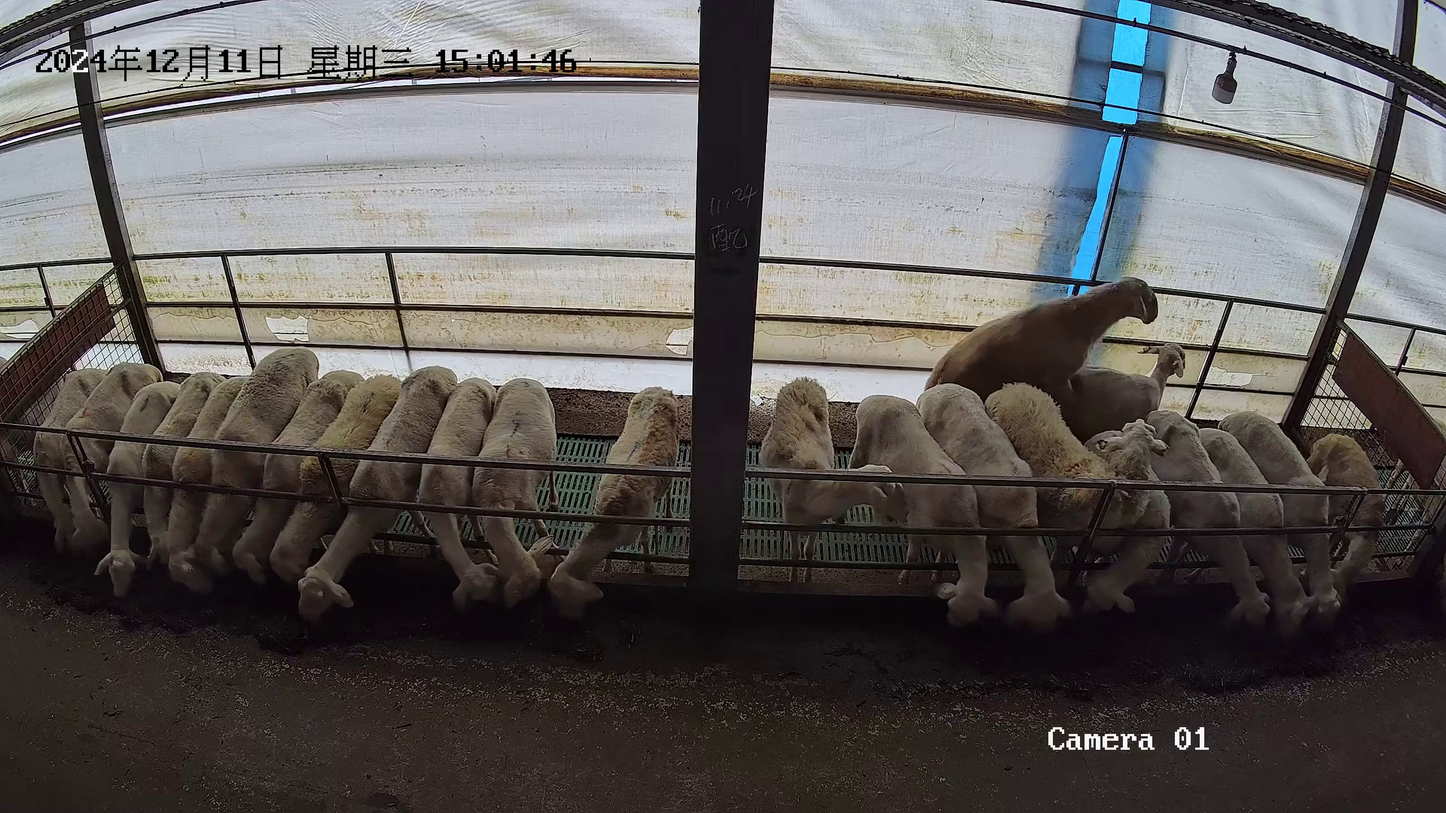Smounting: (925, 273, 1191, 448)
mounted: (1043, 340, 1188, 445)
